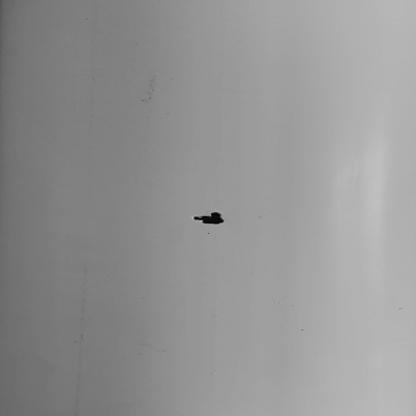kongdong: (186, 210, 230, 229)
